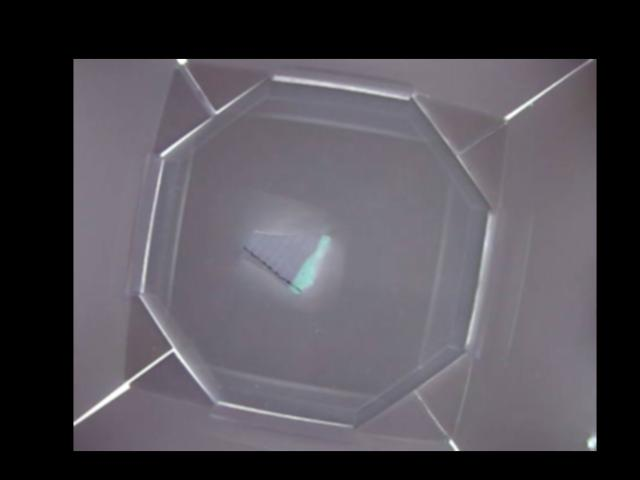China: (237, 223, 332, 292)
